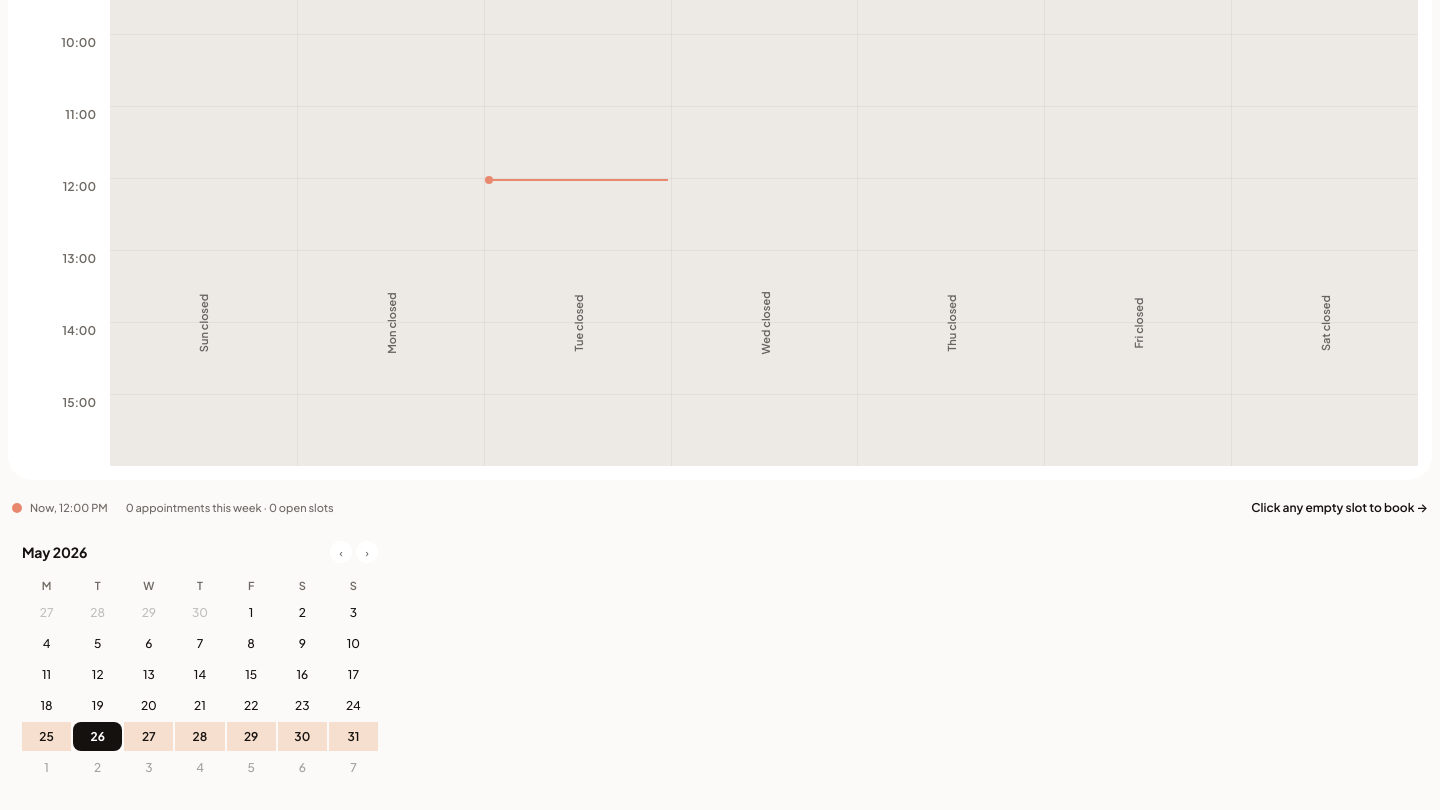
Test: CalendarPage › renders booked appointments only in the correct week when changing the month rail
(page scrolled)
What coordinates should you click on to do the following:
click the cell named "Thu, Jun 4"
I would click on:
 (200, 768)
Its box is x1=175 y1=753 x2=224 y2=782.
(page scrolled)
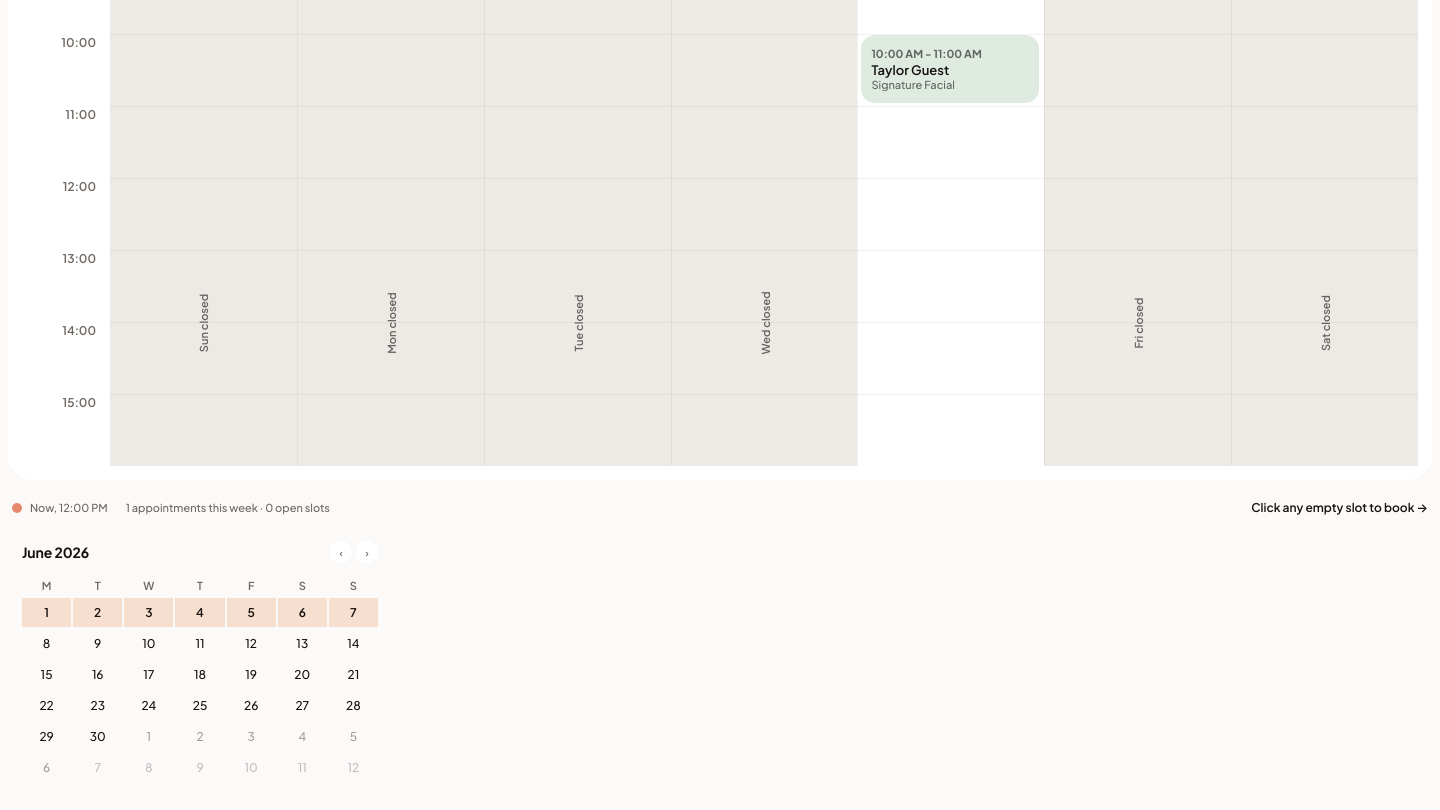
Now the button with aria-label "Taylor Guest booked Thu, Jun 4" is shown, box x1=861 y1=35 x2=1039 y2=103
